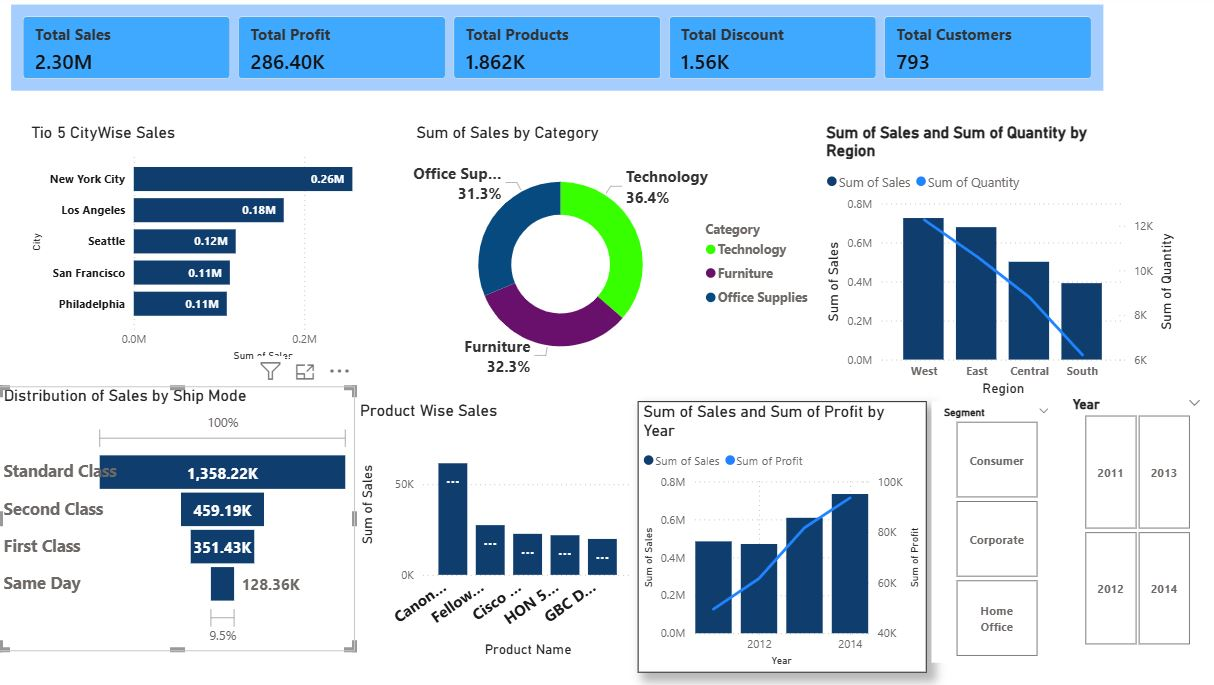

This screenshot's page, from the dashboard's own definition file:
{"tool":"powerbi","page":{"name":"Page 1","canvas":[1280,720],"ordinal":0},"visuals":[{"type":"cardVisual","fields":{"Data":["Sum(Table_1.Sales)","Sum(Table_1.Profit)","Count(Table_1.Product ID)","Sum(Table_1.Discount)","Count(Table_1.Customer ID)"]},"box":[8.2,0,1158.2,100.2],"z":0},{"type":"clusteredBarChart","title":"Tio 5 CityWise Sales","fields":{"Category":["Table_1.City"],"Y":["Sum(Table_1.Sales)"]},"box":[28.9,128.6,370,255.8],"z":1000},{"type":"donutChart","fields":{"Category":["Table_1.Category"],"Y":["Sum(Table_1.Sales)"]},"box":[432.9,128.6,389.7,276.8],"z":2000},{"type":"clusteredColumnChart","title":"Product Wise Sales","fields":{"Y":["Sum(Table_1.Sales)"],"Category":["Table_1.Product Name"]},"box":[373.9,421.1,296.5,274.2],"z":3000},{"type":"funnel","title":"Distribution of Sales by Ship Mode","fields":{"Category":["Table_1.Ship Mode"],"Y":["Sum(Table_1.Sales)"]},"box":[0,405.8,373.6,277.1],"z":4000},{"type":"lineStackedColumnComboChart","fields":{"Y":["Sum(Table_1.Sales)"],"Category":["Table_1.Region"],"Y2":["Sum(Table_1.Quantity)"]},"box":[863.3,128.6,375.2,292.6],"z":5000},{"type":"lineClusteredColumnComboChart","fields":{"Category":["Table_1.Year"],"Y":["Sum(Table_1.Sales)"],"Y2":["Sum(Table_1.Profit)"]},"box":[670.4,421.1,303.1,284.7],"z":6000},{"type":"slicer","fields":{"Values":["Table_1.Year"]},"box":[1113.9,410.6,160.1,272.9],"z":7000},{"type":"slicer","fields":{"Values":["Table_1.Segment"]},"box":[978.7,421.1,135.1,274.2],"z":8000}]}

Visuals, with their boxes in screenshot pixels (x1, y1, x2, y2), scaled from the page's 1280x720 canvas onto the 1214x685 screenshot:
cardVisual - Sum(Table_1.Sales) x Sum(Table_1.Profit): (x1=8, y1=0, x2=1106, y2=95)
"Tio 5 CityWise Sales" clusteredBarChart: (x1=27, y1=122, x2=378, y2=366)
donutChart - Table_1.Category x Sum(Table_1.Sales): (x1=411, y1=122, x2=780, y2=386)
"Product Wise Sales" clusteredColumnChart: (x1=355, y1=401, x2=636, y2=662)
"Distribution of Sales by Ship Mode" funnel: (x1=0, y1=386, x2=354, y2=650)
lineStackedColumnComboChart - Sum(Table_1.Sales) x Table_1.Region: (x1=819, y1=122, x2=1175, y2=401)
lineClusteredColumnComboChart - Table_1.Year x Sum(Table_1.Sales): (x1=636, y1=401, x2=923, y2=671)
slicer - Table_1.Year: (x1=1056, y1=391, x2=1208, y2=650)
slicer - Table_1.Segment: (x1=928, y1=401, x2=1056, y2=662)
